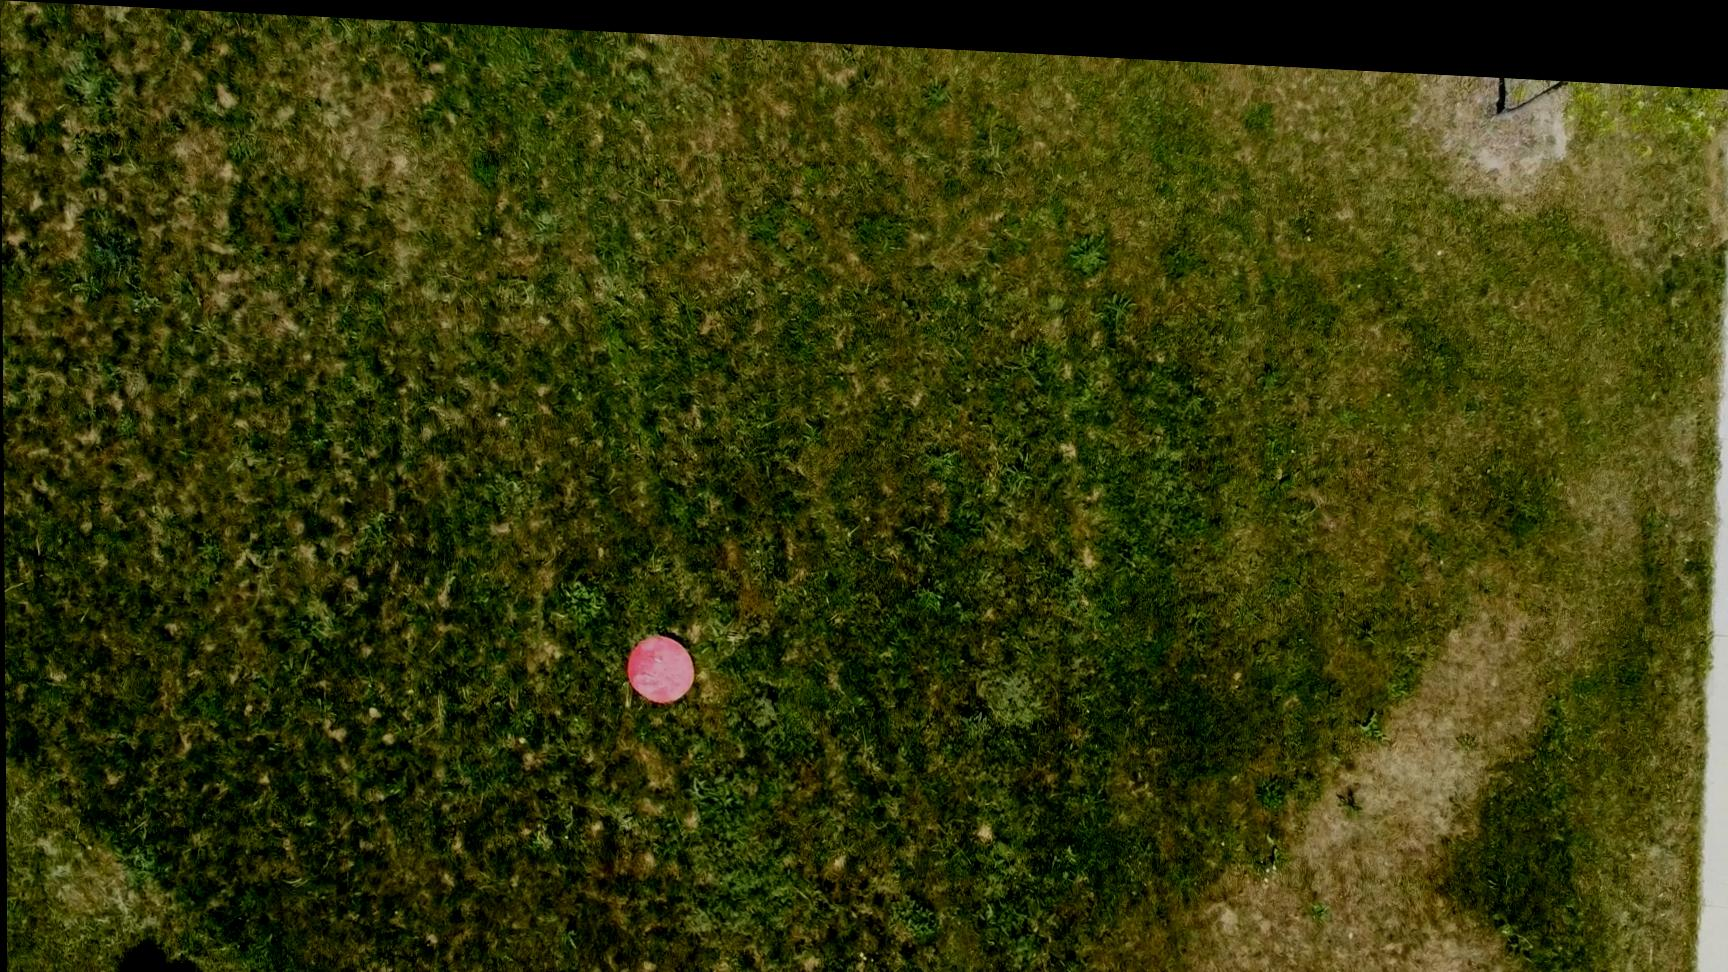Red: (622, 624, 698, 701)
